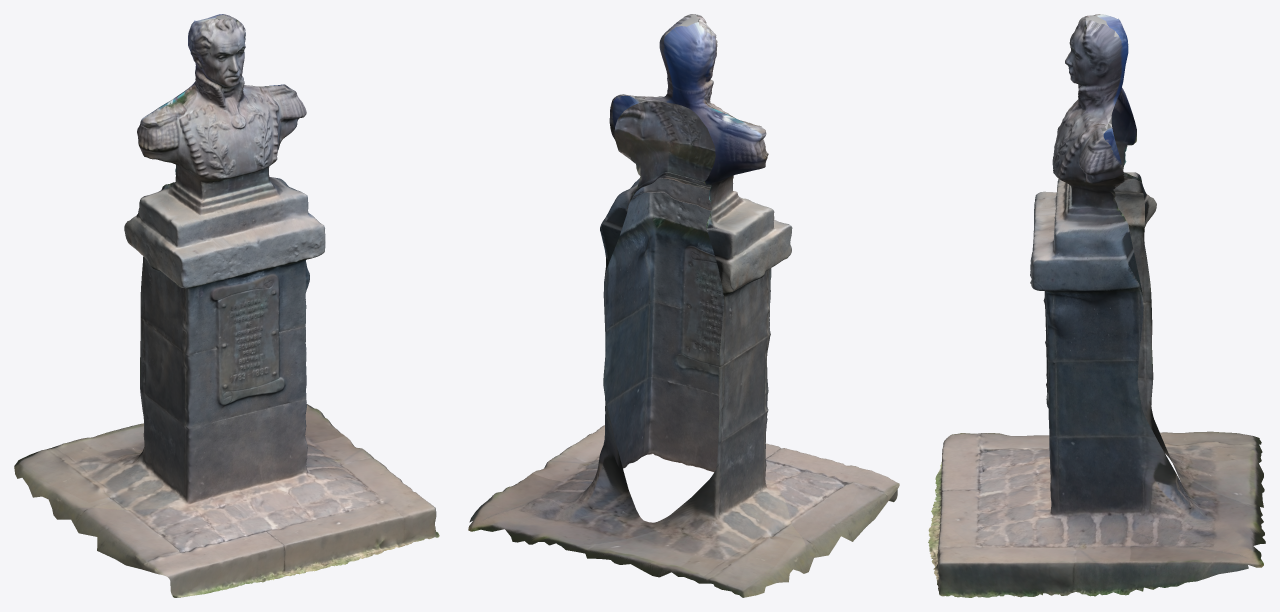
The model's file is day63_simon_bolivar.glb.
The picture shows the model from 3 angles, left to right: view 1: azimuth 30°, elevation 25°; view 2: azimuth 150°, elevation 25°; view 3: azimuth 270°, elevation 25°; orthographic projection. The views are drawn at different scales.
Parts seen in each view (by area): view 1: mesh_2, mesh_0; view 2: mesh_2, mesh_0; view 3: mesh_0, mesh_2.
Part boxes in pixels (x1,y1,x2,y2): mesh_2: (14,148,439,593); mesh_0: (124,14,373,597); mesh_2: (505,125,888,597); mesh_0: (468,14,899,531); mesh_0: (936,14,1263,596); mesh_2: (928,144,1265,597).
Bounding box in the file's own units: 19.21 × 30.93 × 18.62.
Materials: 3 (2 with a texture image).
